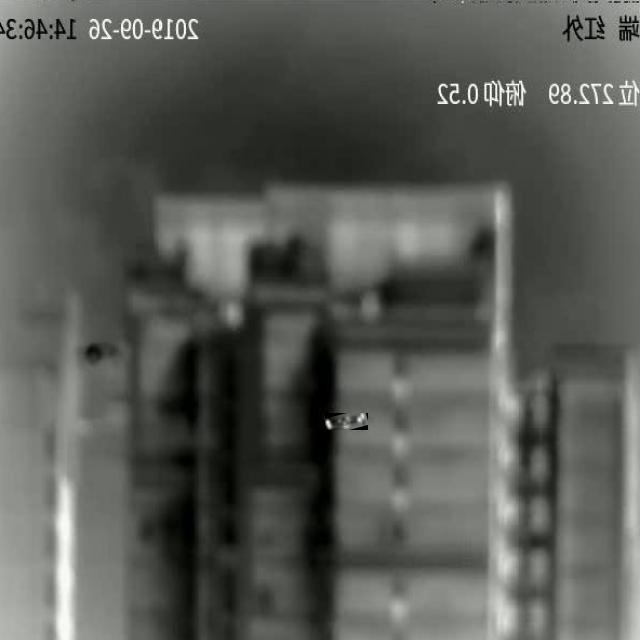drone: (325, 413, 367, 429)
